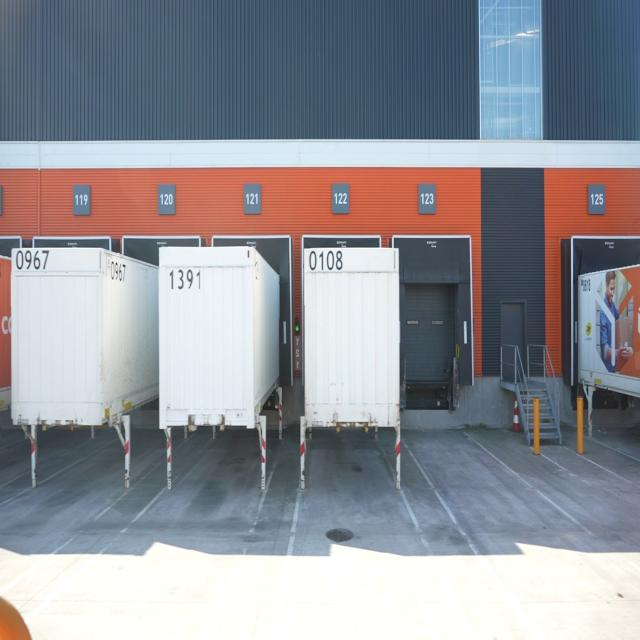Code: (167, 262, 204, 296), (306, 247, 345, 276), (13, 246, 52, 272), (107, 256, 129, 286)
